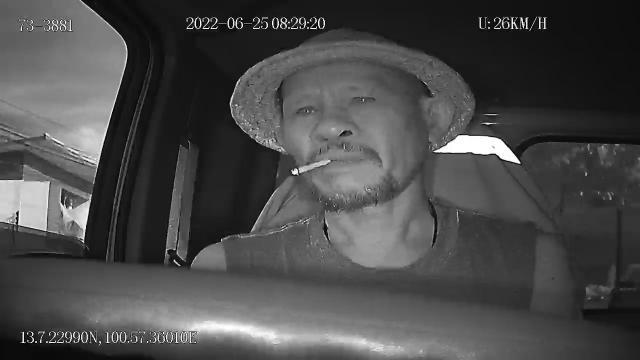SafeDriving: (344, 85, 382, 111), (291, 96, 325, 121)
Smoking: (292, 157, 331, 177)
